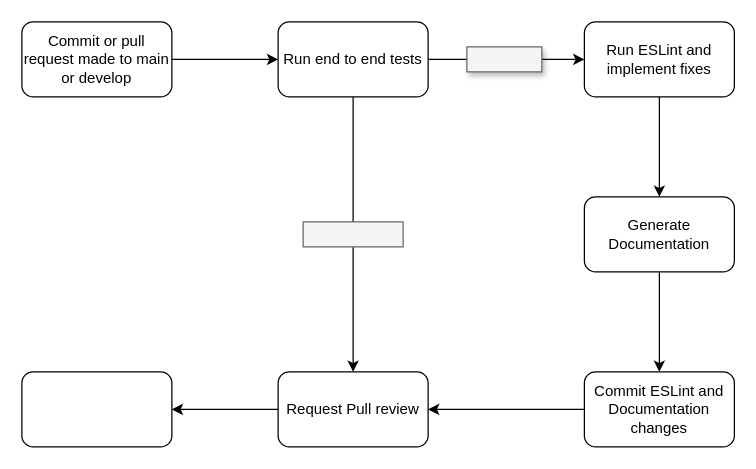
Some shapes in this 756 by 469 pixel diagram are drawn without their labels. The shapes that lost their labels are listed below. From the top down, each one's centre as x and y in pixels, then its label:
the point at 505,61: Commit
the point at 352,234: Pull Request
the point at 96,409: Finish Actions
